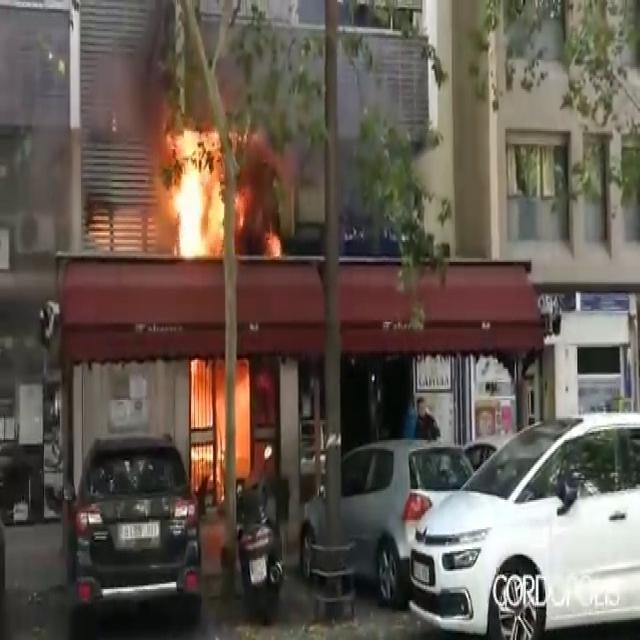Fire: (158, 118, 234, 266), (186, 352, 254, 490)
